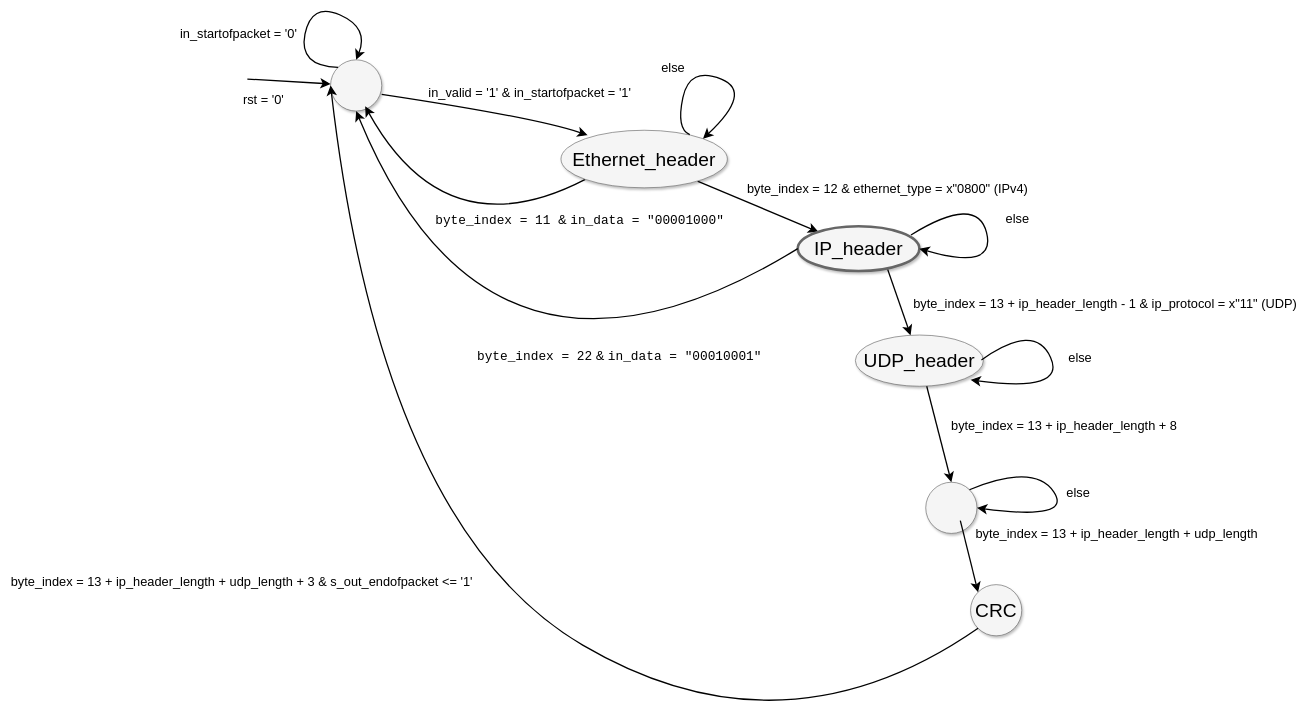
Image size: 1308x712. Some labels were removed from this diagram. Here are the shapes that lost their labels. From the top down, the centre of each, then its label:
(356,86): idle
(952,508): Data
